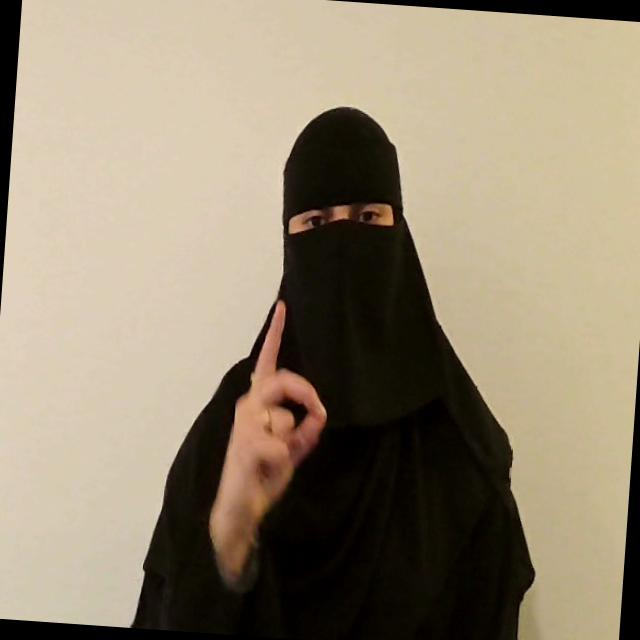emergency: (202, 294, 334, 596)
